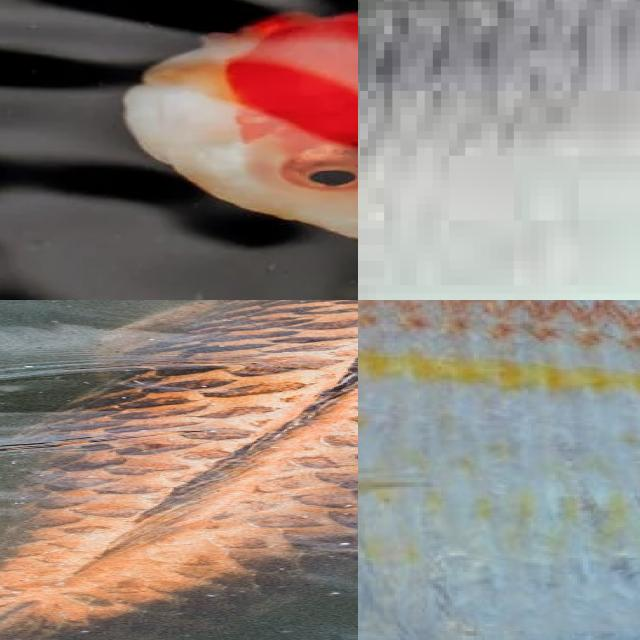fish: (0, 0, 358, 300), (0, 340, 358, 640), (358, 300, 640, 640), (358, 0, 640, 300)
